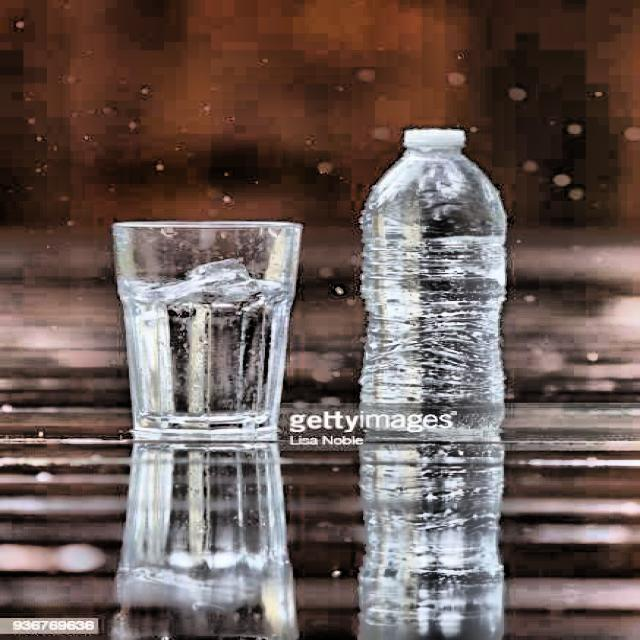Bottles: (352, 126, 518, 416)
